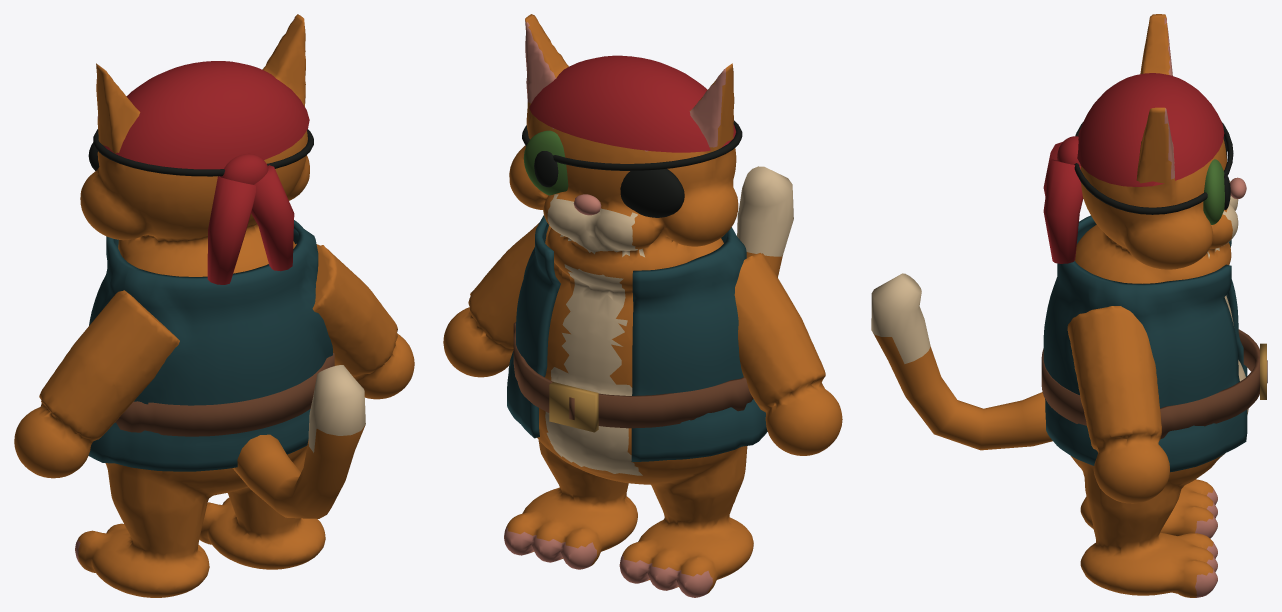
3 views of the same model, side by side, from view 1: azimuth 30°, elevation 25°; view 2: azimuth 150°, elevation 25°; view 3: azimuth 270°, elevation 25° (orthographic). The views are drawn at different scales.
Size of the model in its own units: 0.9379 by 1.21 by 0.8714.
